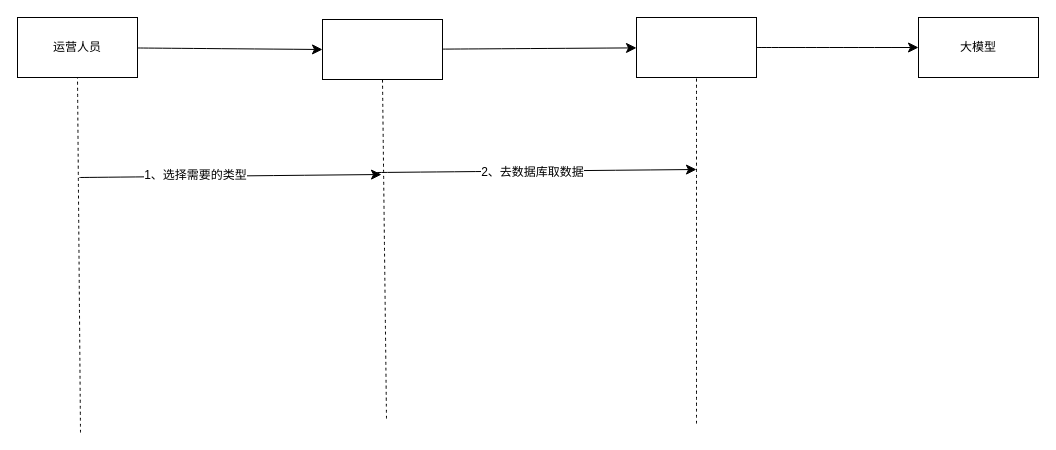
The diagram is 1056 pixels wide and 450 high, and some of its shapes have lost their labels. The shapes that lost their labels are listed below. From the top down, each one's centre as x and y in pixels, then its label:
At pixel 382 49: "搜索评估系统".
At pixel 696 47: "数据库".
